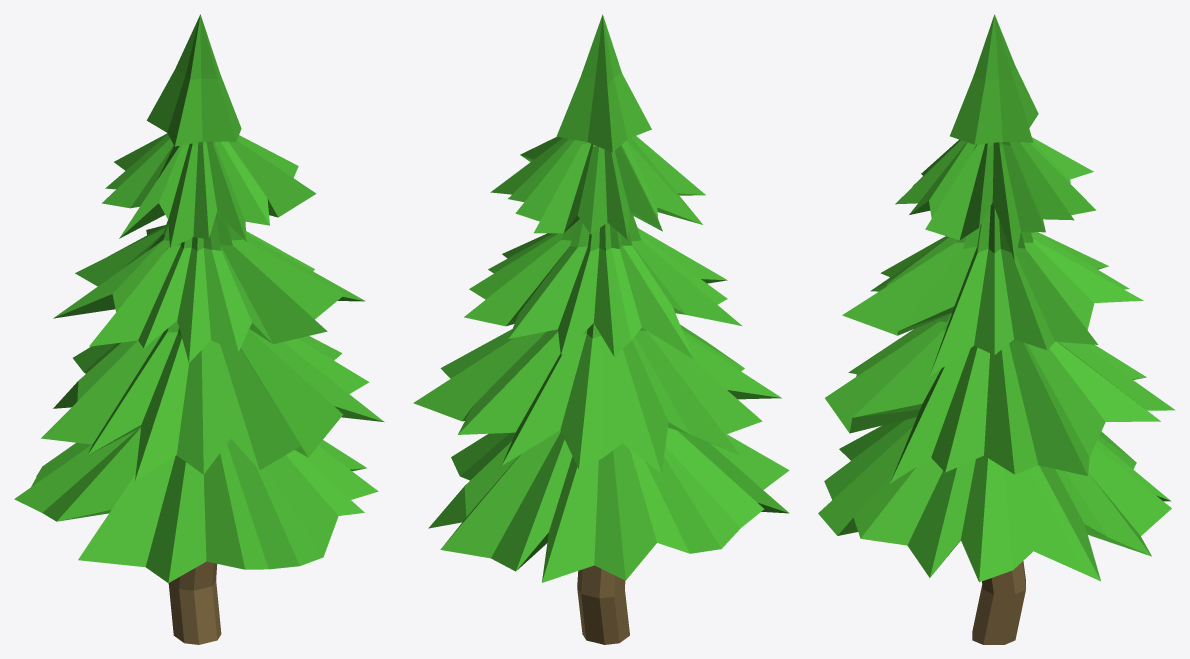
Rendered from arbol1.fbx.
3 renders of one model, left to right at view 1: azimuth 30°, elevation 25°; view 2: azimuth 150°, elevation 25°; view 3: azimuth 270°, elevation 25°, orthographic.
Visible parts, largest first — view 1: Cube.001; view 2: Cube.001; view 3: Cube.001.
Boxes of the visible parts, x1,y1,x2,y2 form: Cube.001: (14,14,384,644); Cube.001: (413,14,789,644); Cube.001: (818,14,1175,644).
Bounding box in the file's own units: 313 × 590 × 307.
